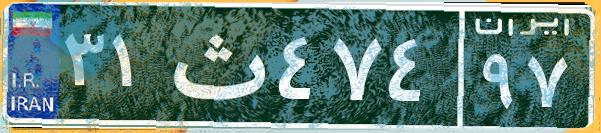1: (110, 28, 158, 105)
3: (57, 26, 110, 107)
4: (385, 28, 445, 110), (273, 28, 330, 110)
7: (330, 28, 385, 110), (525, 38, 570, 115)
9: (475, 38, 525, 113)
ث: (158, 15, 273, 115)
